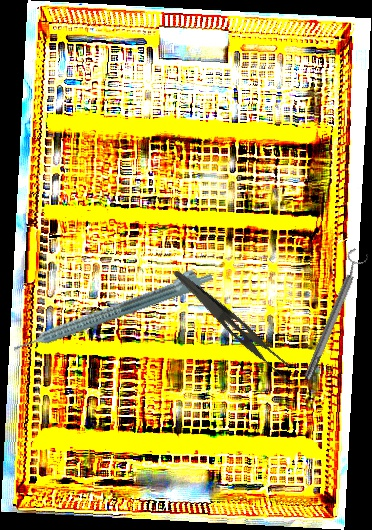Dressing Forceps: (161, 268, 302, 385)
Fixation Ring: (296, 246, 371, 384)
Handpiece: (8, 261, 215, 357)
